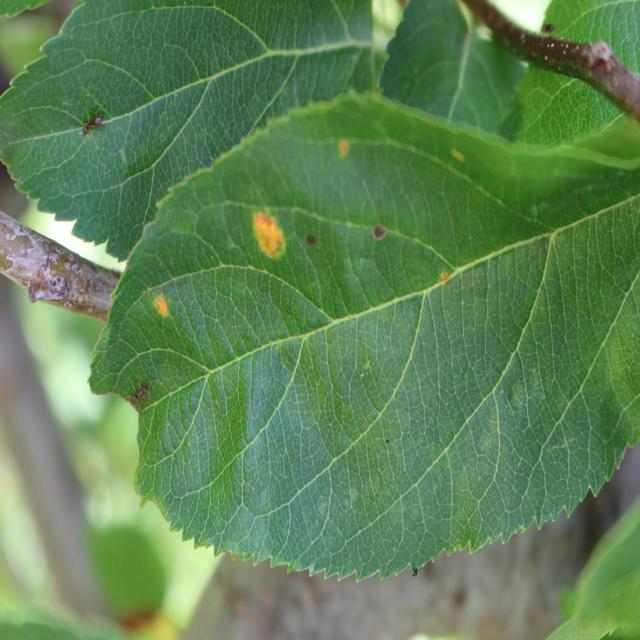Rust: (252, 210, 287, 266), (151, 292, 172, 328), (439, 263, 456, 290), (450, 146, 468, 168), (337, 138, 349, 161)
